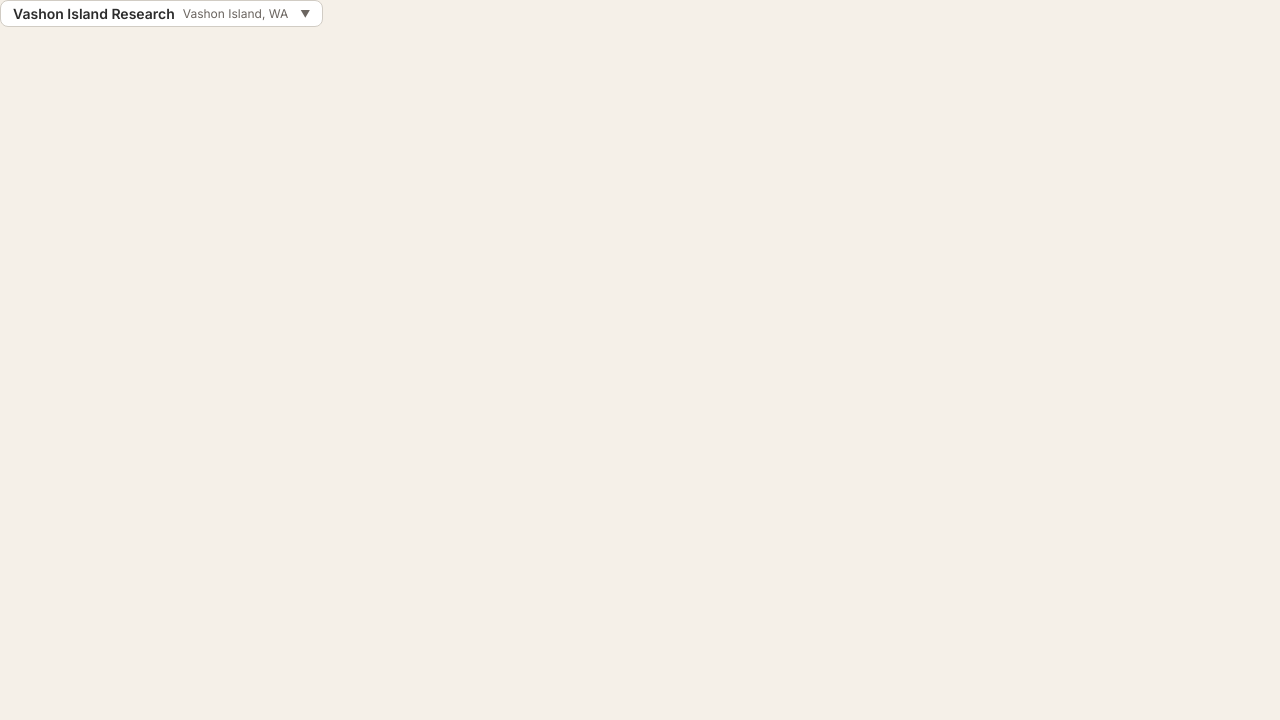
it: ProjectSelector › opens dropdown on trigger click
The image size is (1280, 720).
Click the button at (162, 14), box left=0, top=0, right=323, bottom=27
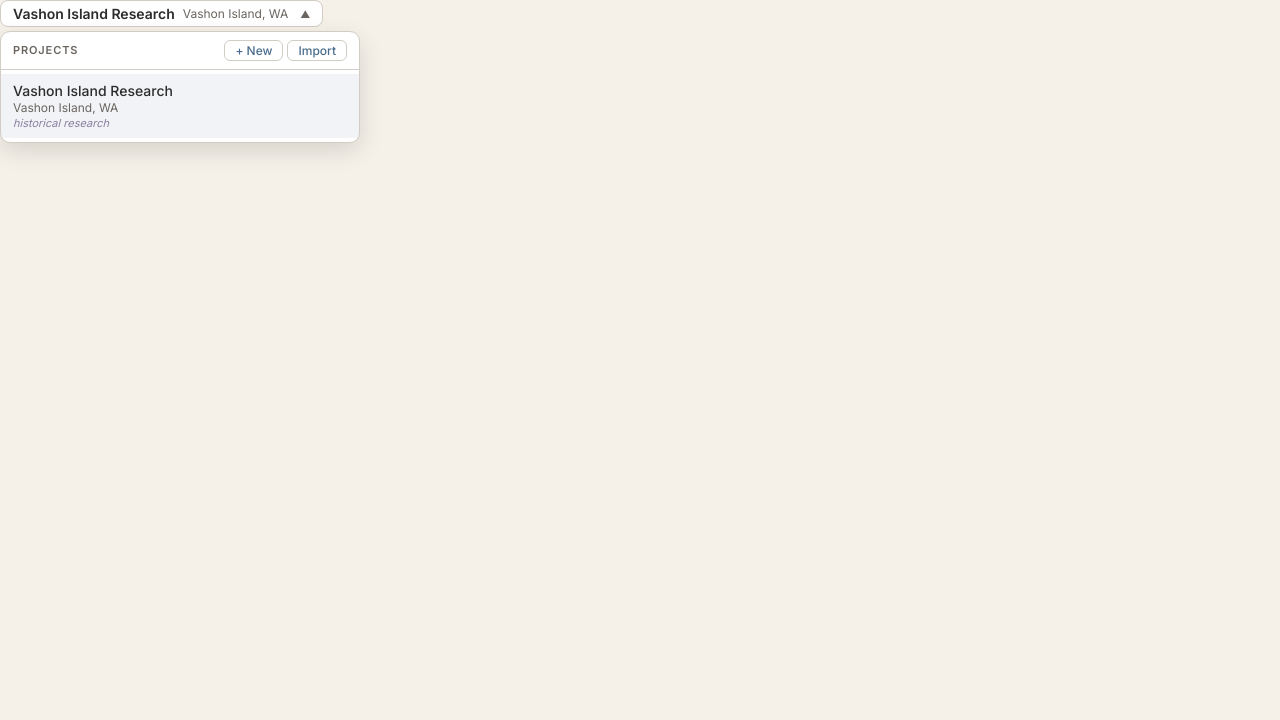
Check: the text "Projects" is shown, box left=13, top=42, right=78, bottom=60
